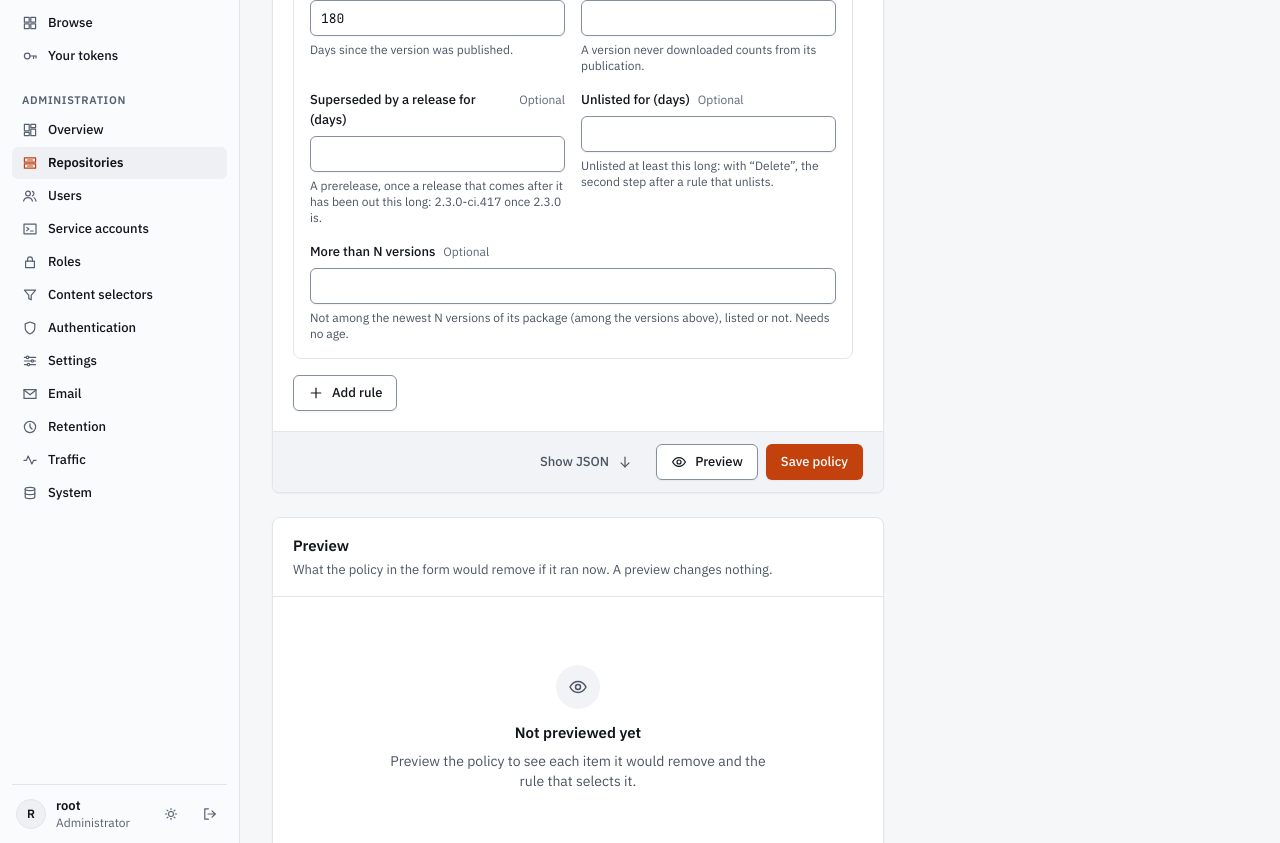
Scenario: retention screen › edits a stored policy, removes it after asking, and shows its runs
(page scrolled)
A second rule, moved first.
Click the button "Add rule". click: (345, 393)
box: [293,375,398,411]
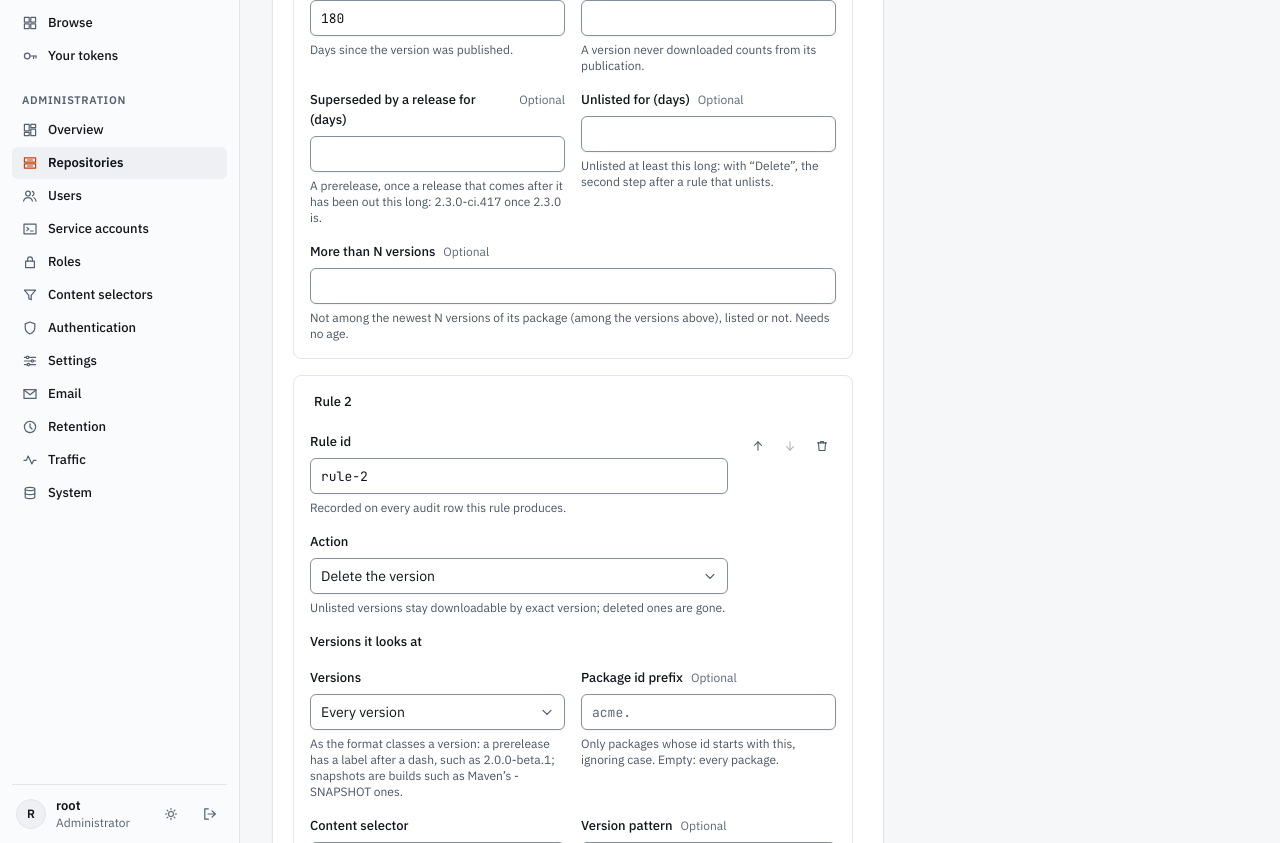
expect the field labelled "Rule id" holds "rule-2": met, box [310,458,728,494]
Click the button named "Move rule 2 up". click: (758, 446)
box: [744,432,772,460]
(page scrolled)
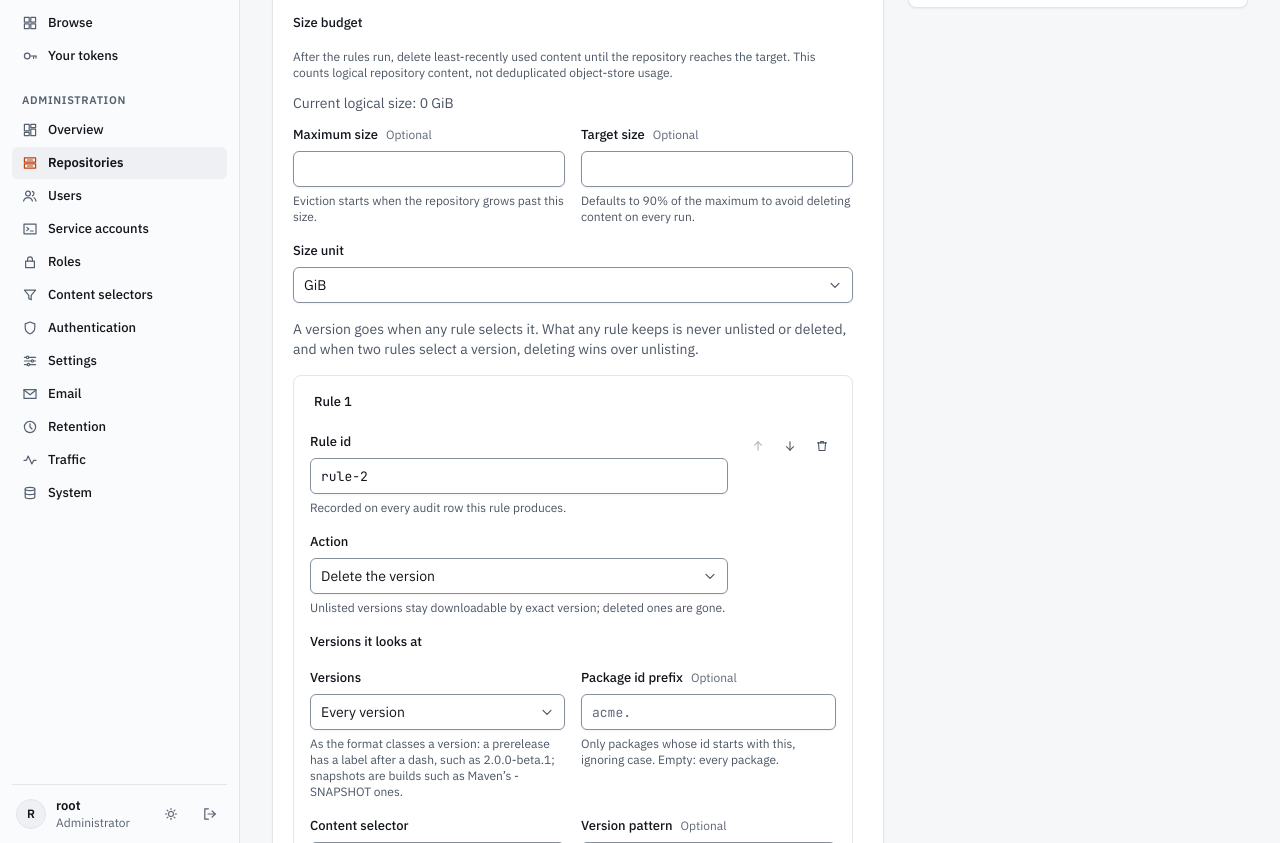
Click the button named "Remove rule 1". click: (822, 446)
box: [808,432,836,460]
(page scrolled)
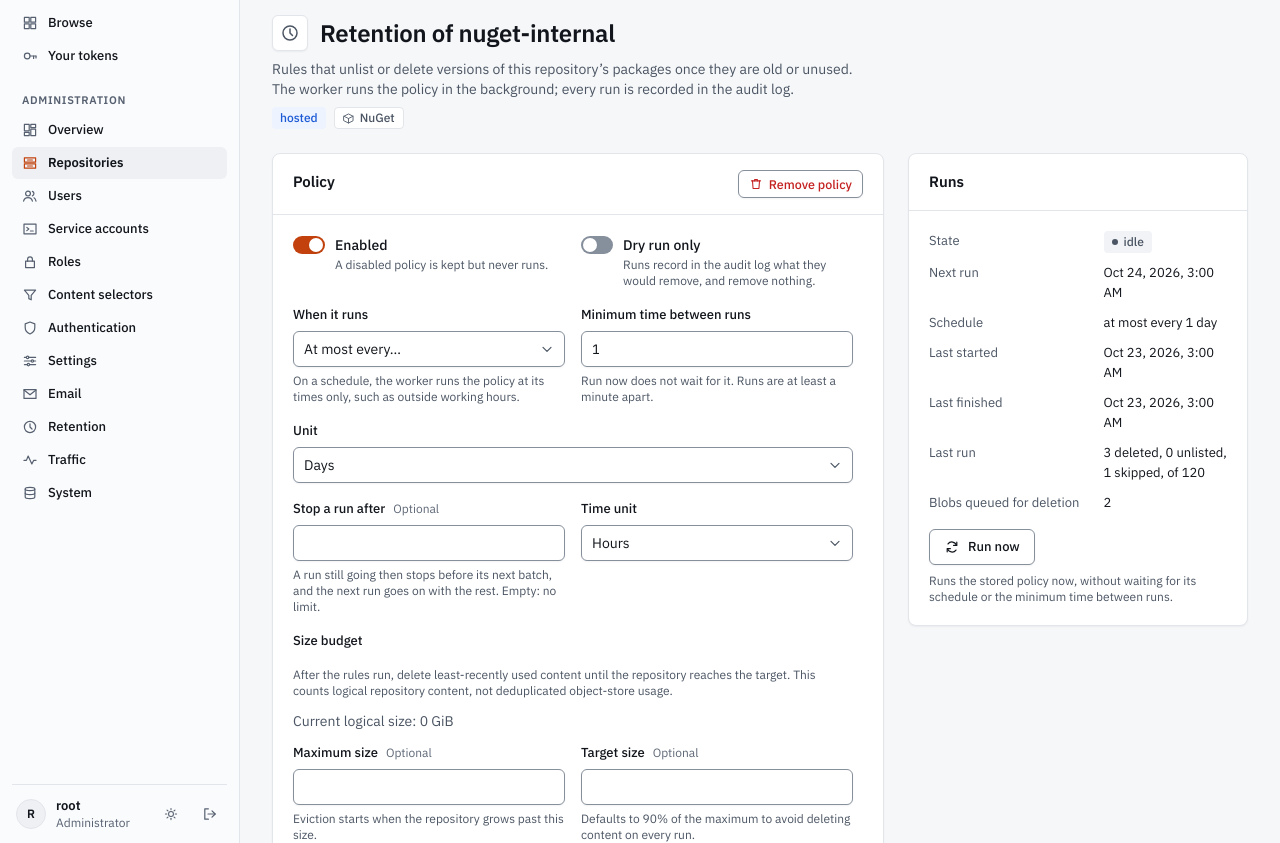
expect the text "Rule 2" is not shown: met
Click the button "Remove policy". click: (800, 184)
box: [738,170,863,198]
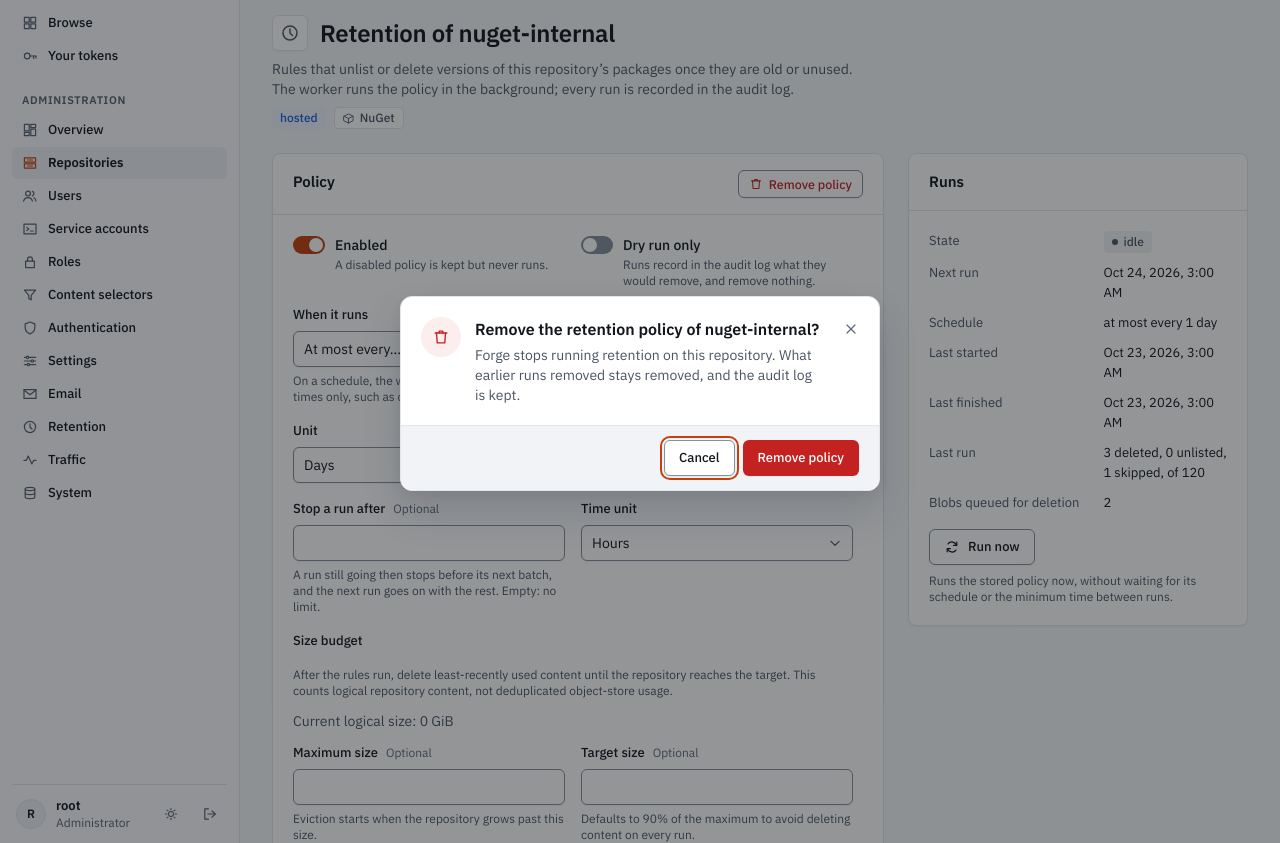
expect the text "audit log is kept" is shown: met, box [475,346,812,404]
Click the button "Remove policy". click: (801, 458)
box: [742,440,859,476]
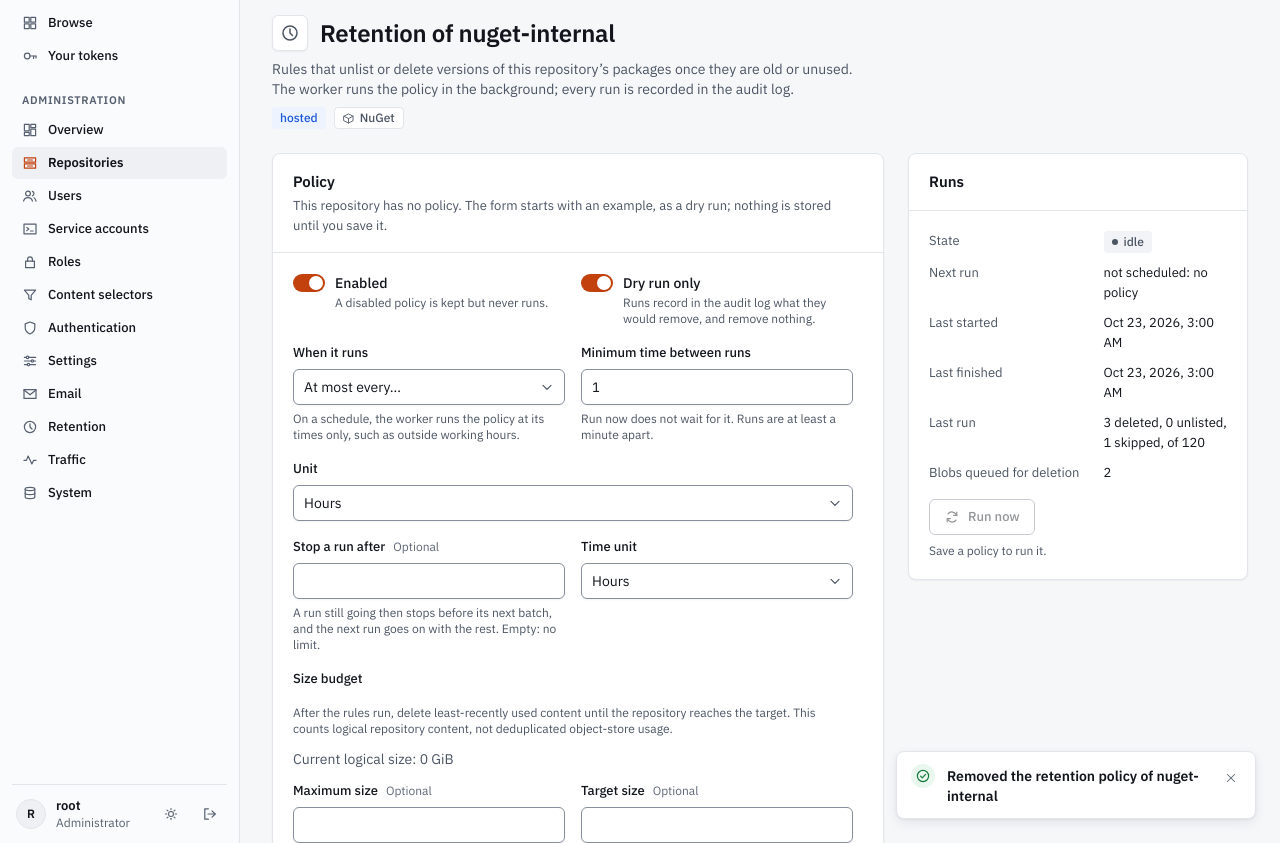
expect the text "This repository has no policy" is shown: met, box [293,197,831,234]
expect the button "Run now" is disabled: met, box [929,499,1035,535]
